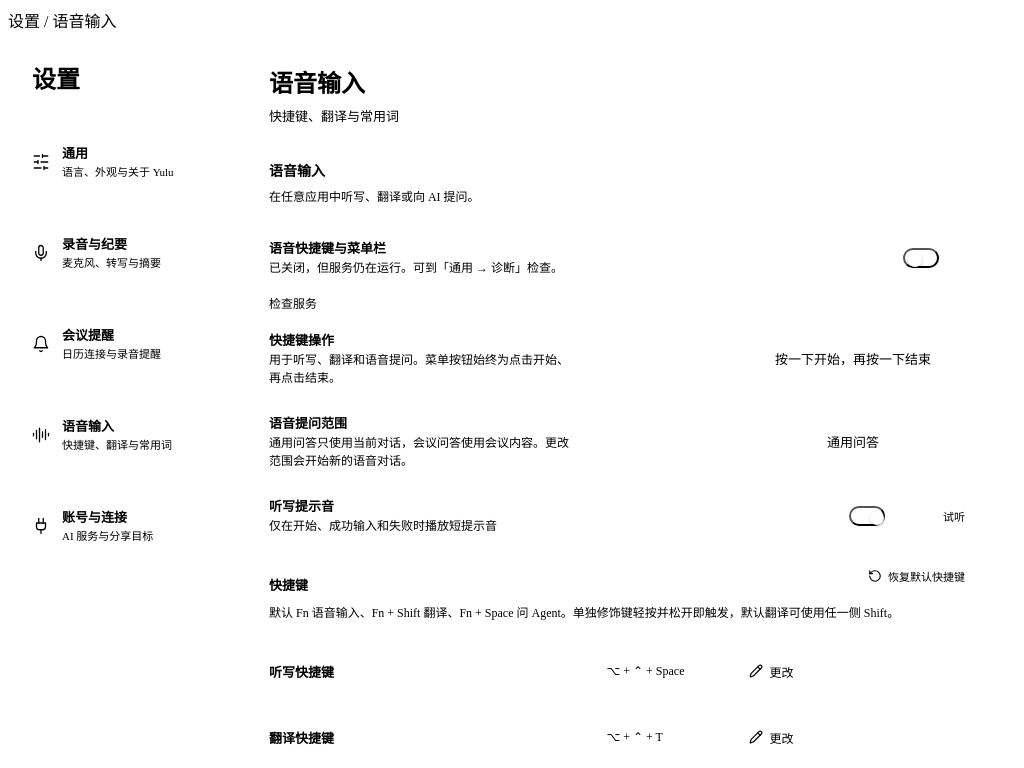
Test case: Settings category detail content (re-homed widgets) › voice: surfaces preview IPC failures
Click the button "试听" at [954, 516], box left=933, top=505, right=975, bottom=527
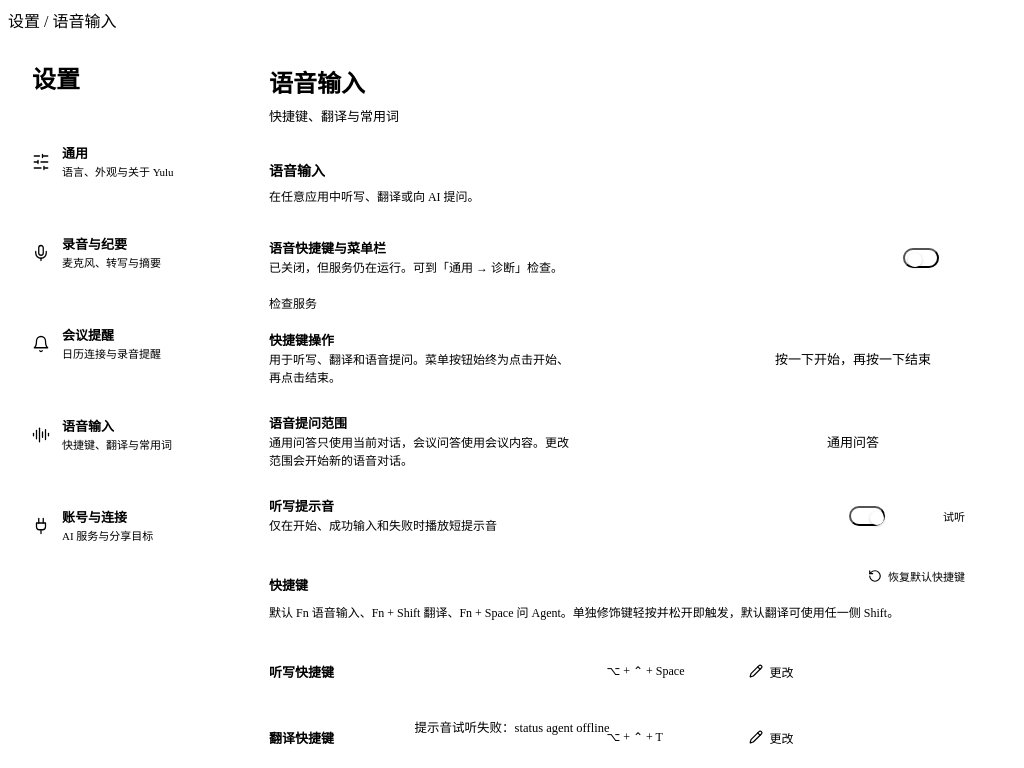
Check: the message with test id "settings-error-toast" shows "status agent offline", box left=415, top=721, right=610, bottom=735
